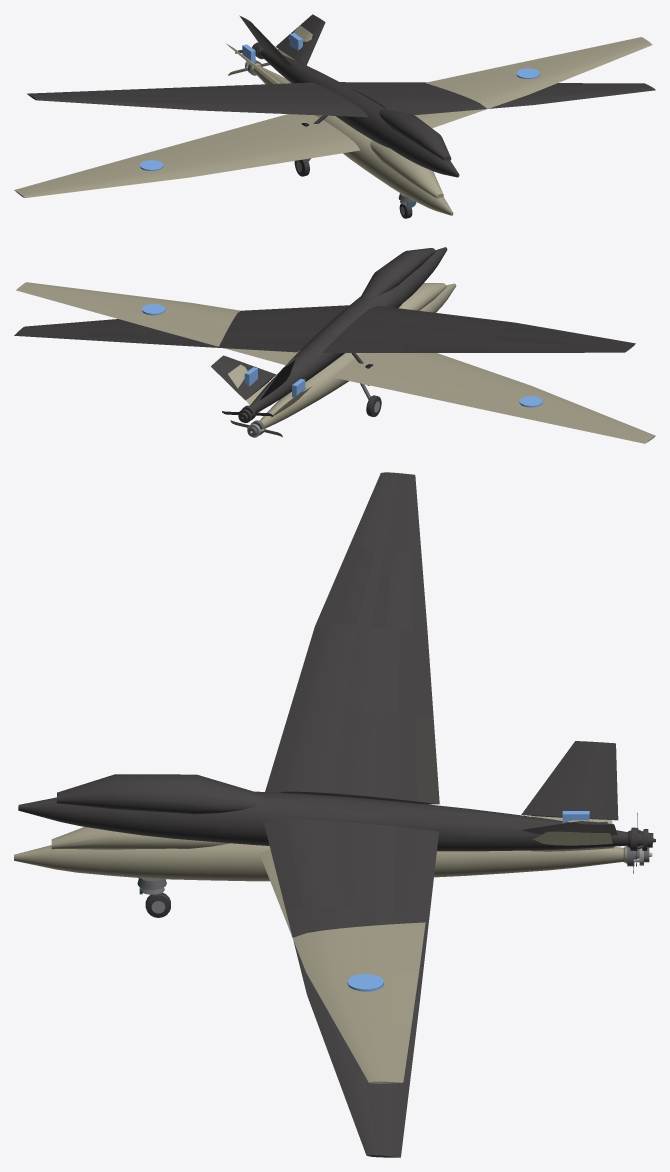
File: drone__hermes_900.glb
The picture shows the model from 3 angles, top to bottom: view 1: azimuth 30°, elevation 25°; view 2: azimuth 150°, elevation 25°; view 3: azimuth 270°, elevation 25°; orthographic projection. The views are drawn at different scales.
Parts seen in each view (by area): view 1: Fuselage_Mesh, Wreck; view 2: Wreck, Fuselage_Mesh, Propeller_Mesh; view 3: Wreck, Fuselage_Mesh.
Boxes of the visible parts, x1,y1,x2,y2 form: Fuselage_Mesh: [14, 25, 652, 218]; Wreck: [27, 14, 655, 177]; Wreck: [14, 247, 635, 422]; Fuselage_Mesh: [16, 282, 655, 443]; Propeller_Mesh: [230, 420, 282, 437]; Wreck: [18, 472, 655, 1157]; Fuselage_Mesh: [14, 804, 623, 1083].
Size of what is drawn, in the model's own units: 15.06 by 3.16 by 8.48.
